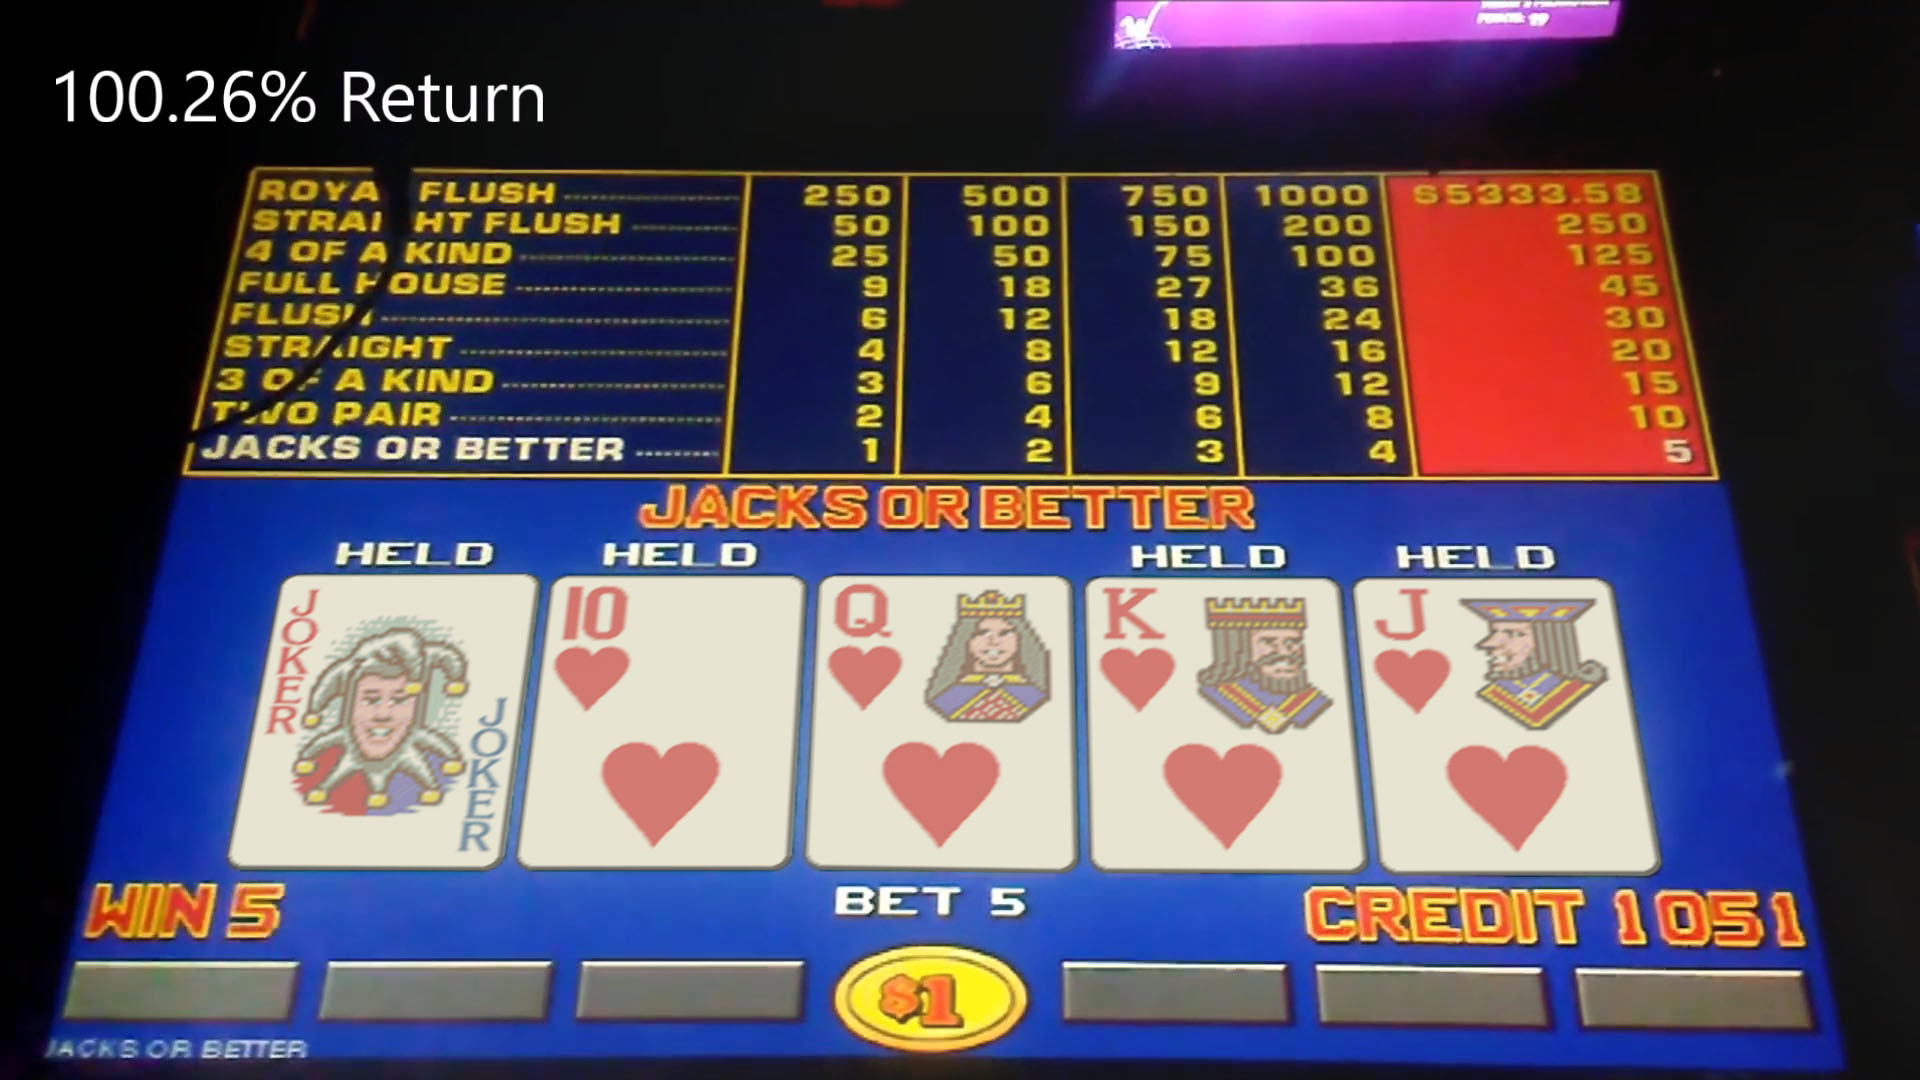HJ: (1373, 582, 1625, 872)
HK: (1091, 580, 1348, 872)
HQ: (811, 575, 1076, 869)
HT: (546, 575, 795, 866)
joker: (266, 576, 506, 865)
